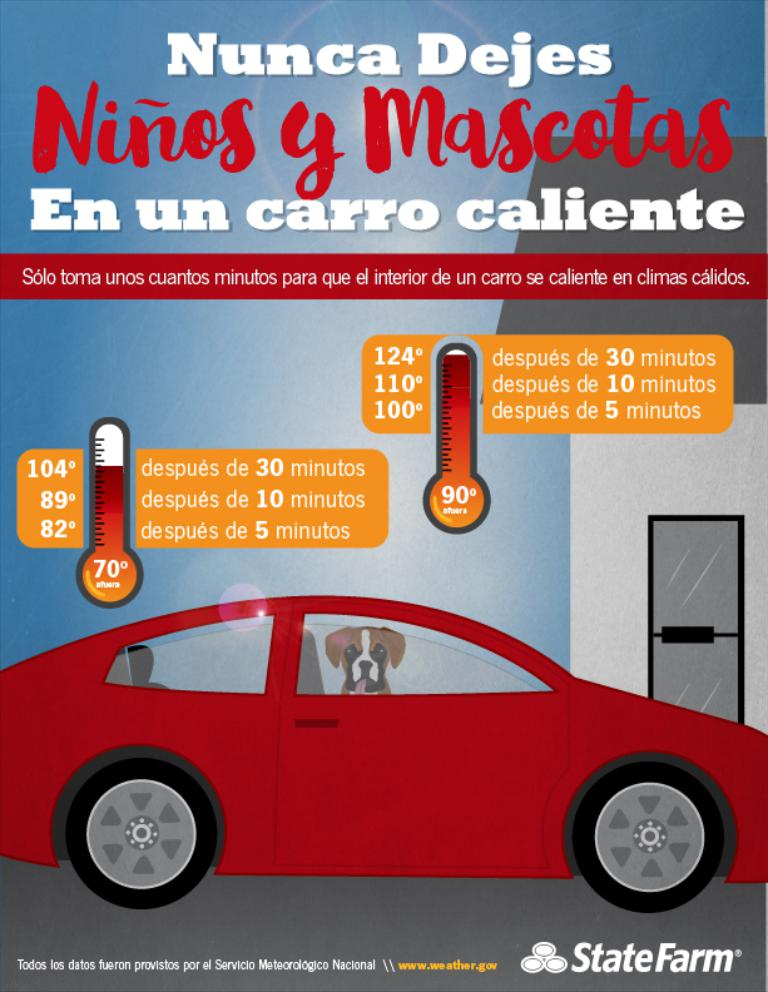cars: (0, 585, 766, 905)
